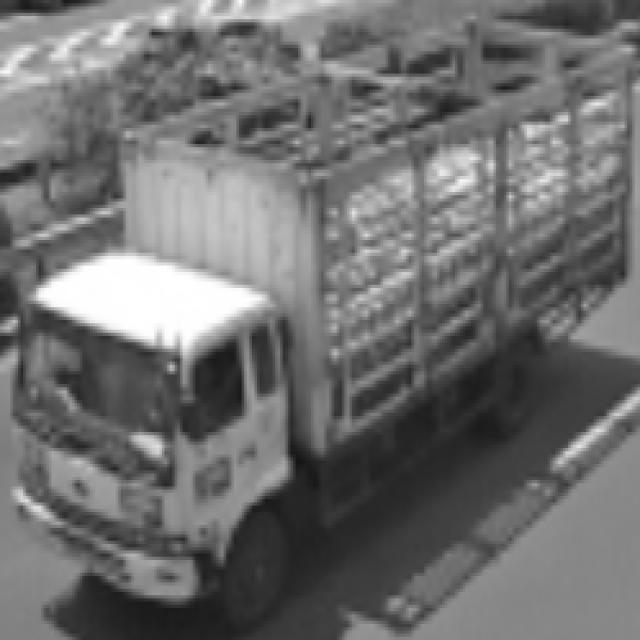truck: (1, 235, 312, 626)
